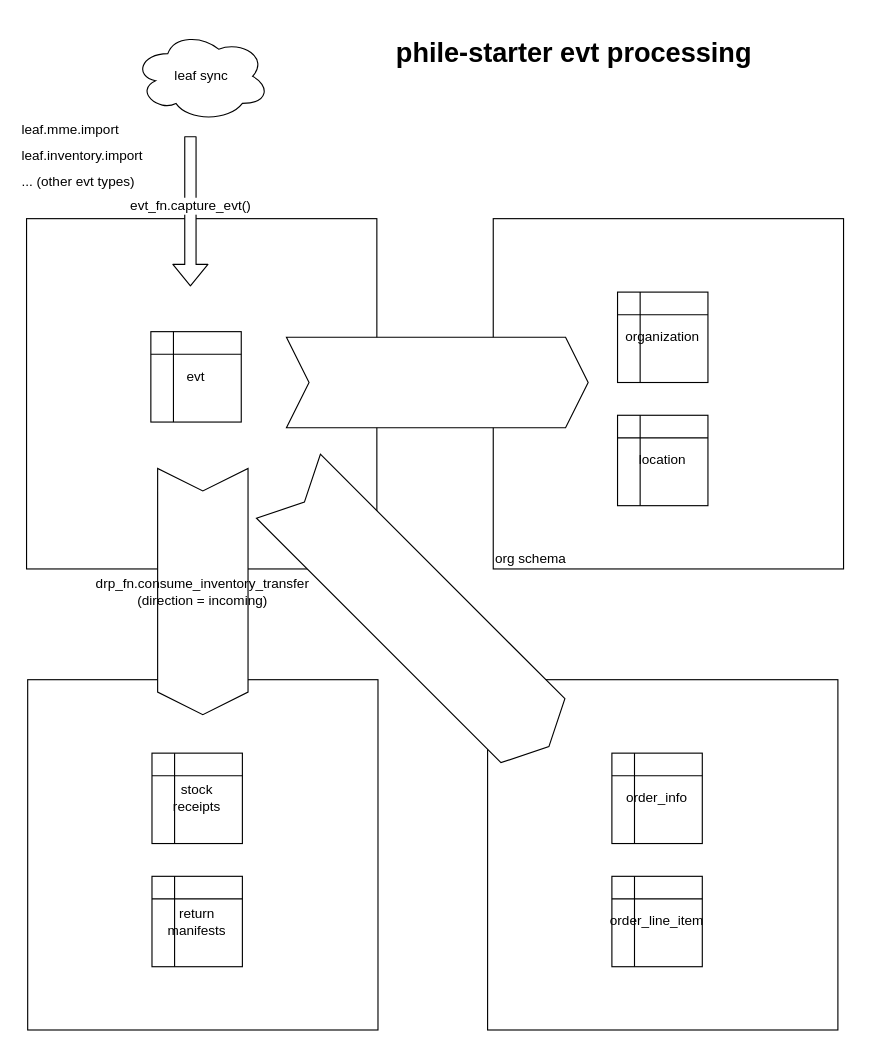
This 885x1050 diagram has some shape labels left out. The shapes that lost their labels are listed below. From the top down, each one's box as (x1, y1, x2, y2) in pixels, then its label:
(25, 218, 377, 569): evt schema
(285, 336, 588, 428): leaf_fn.consume_mme
(255, 453, 581, 779): soro_fn.consume_inventory_transfer (direction = outgoing)
(27, 679, 378, 1030): drp schema
(486, 679, 838, 1030): ord schema
